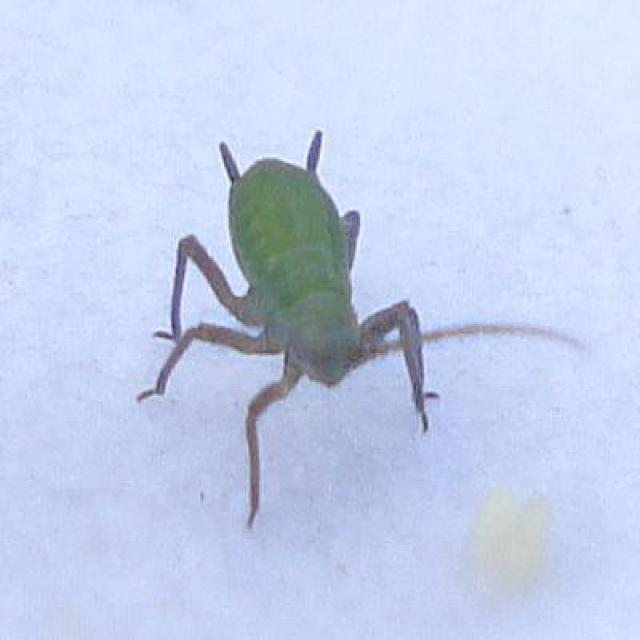aphid: (164, 138, 460, 483)
